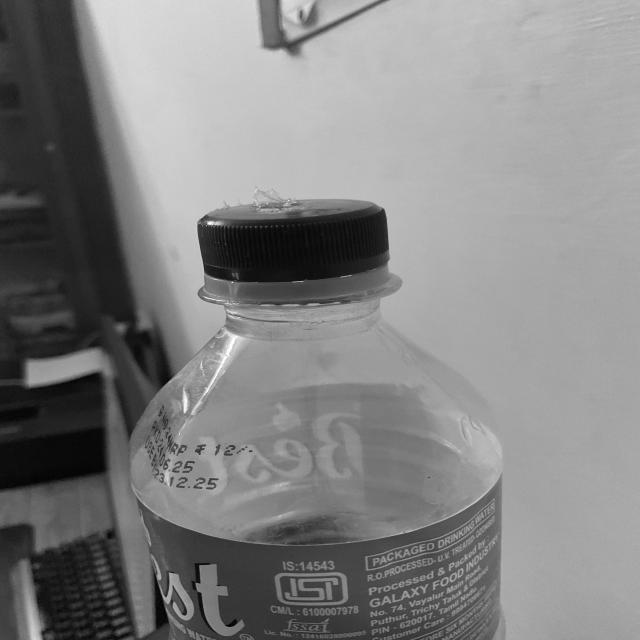Good-cap-Df0S: (191, 196, 396, 301)
